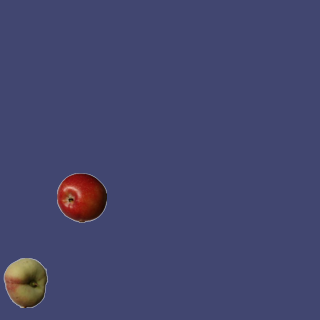Apple Braeburn: (56, 172, 106, 222)
Peach Flat: (0, 257, 50, 307)
